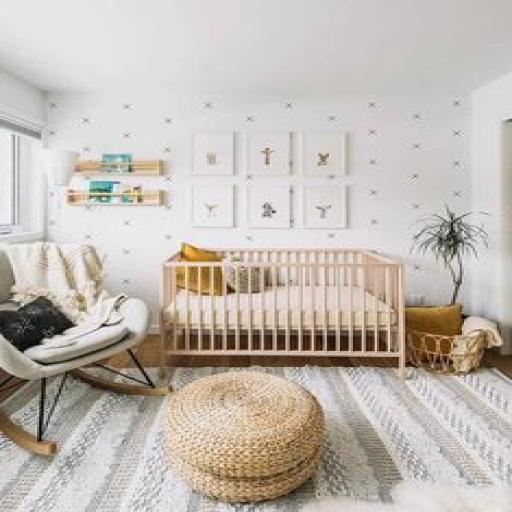crib: (158, 247, 406, 372)
